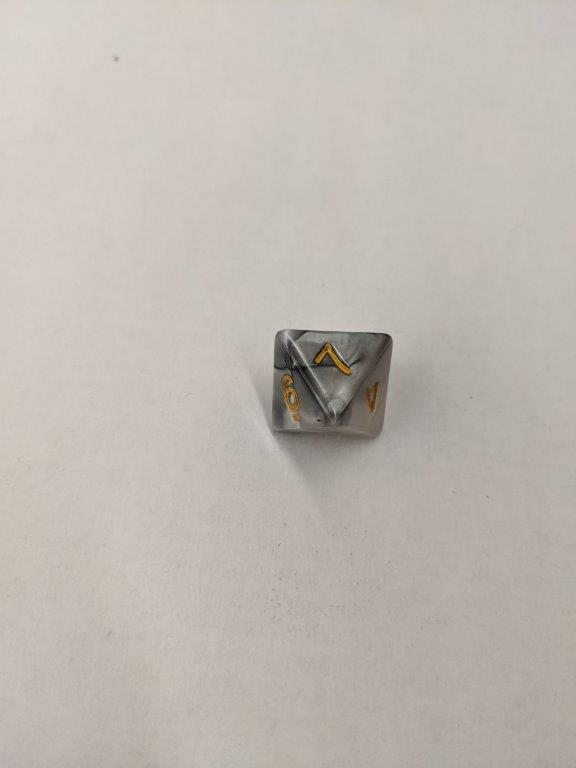d8-7: (274, 330, 393, 437)
